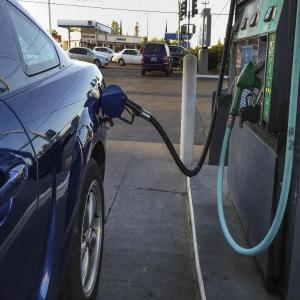Vehicle-registration-plate: (152, 57, 159, 63)
